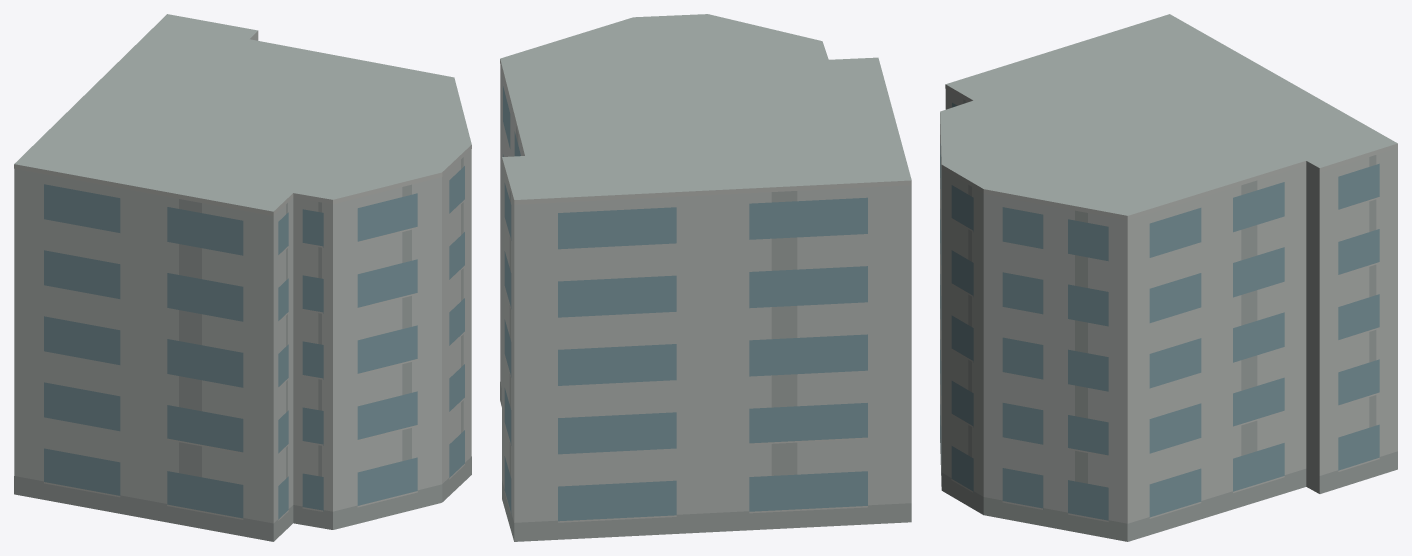
File: survey-upis-32624705.glb
3 renders of one model, left to right at view 1: azimuth 30°, elevation 25°; view 2: azimuth 150°, elevation 25°; view 3: azimuth 270°, elevation 25°, orthographic. The views are drawn at different scales.
Visible parts, largest first — view 1: survey-upis-32624705.tmp; view 2: survey-upis-32624705.tmp; view 3: survey-upis-32624705.tmp.
Part boxes in pixels (x1,y1,x2,y2): survey-upis-32624705.tmp: (14, 14, 471, 541); survey-upis-32624705.tmp: (500, 14, 911, 541); survey-upis-32624705.tmp: (940, 14, 1397, 541).
Bounding box in the file's own units: 23.24 × 17.5 × 22.28.
